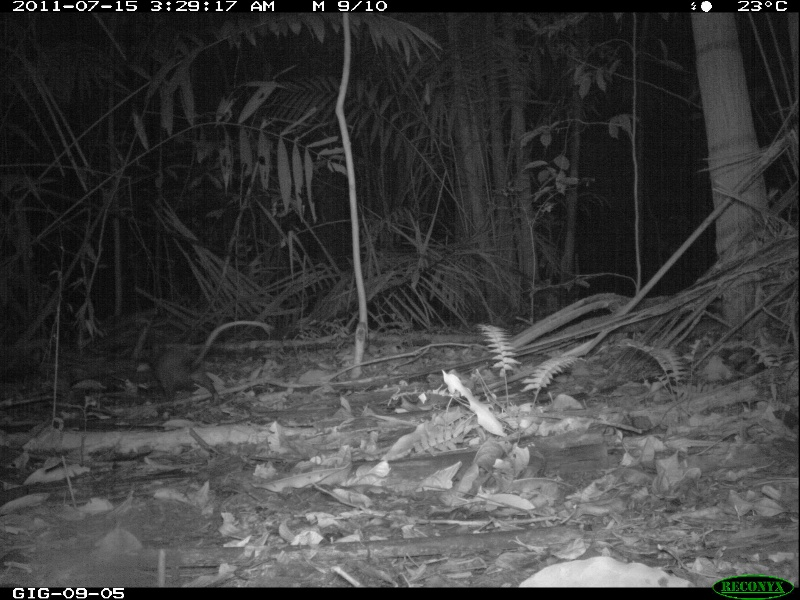opossum: (131, 313, 272, 395)
